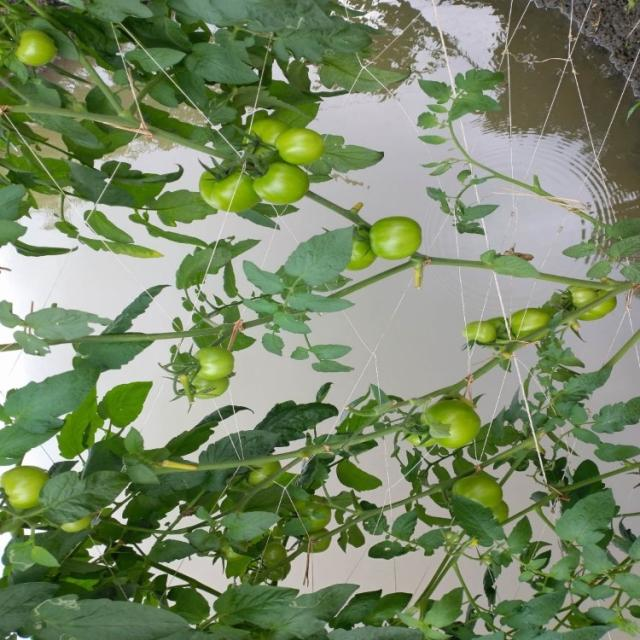tomato: (419, 391, 486, 454), (257, 154, 324, 213), (3, 462, 75, 516), (192, 156, 257, 214), (368, 206, 430, 266), (450, 459, 506, 520), (281, 116, 332, 169), (230, 116, 295, 155), (189, 341, 242, 385), (10, 29, 68, 69), (568, 280, 623, 320), (515, 302, 558, 342), (466, 311, 510, 344), (180, 382, 233, 409), (254, 456, 277, 487)
